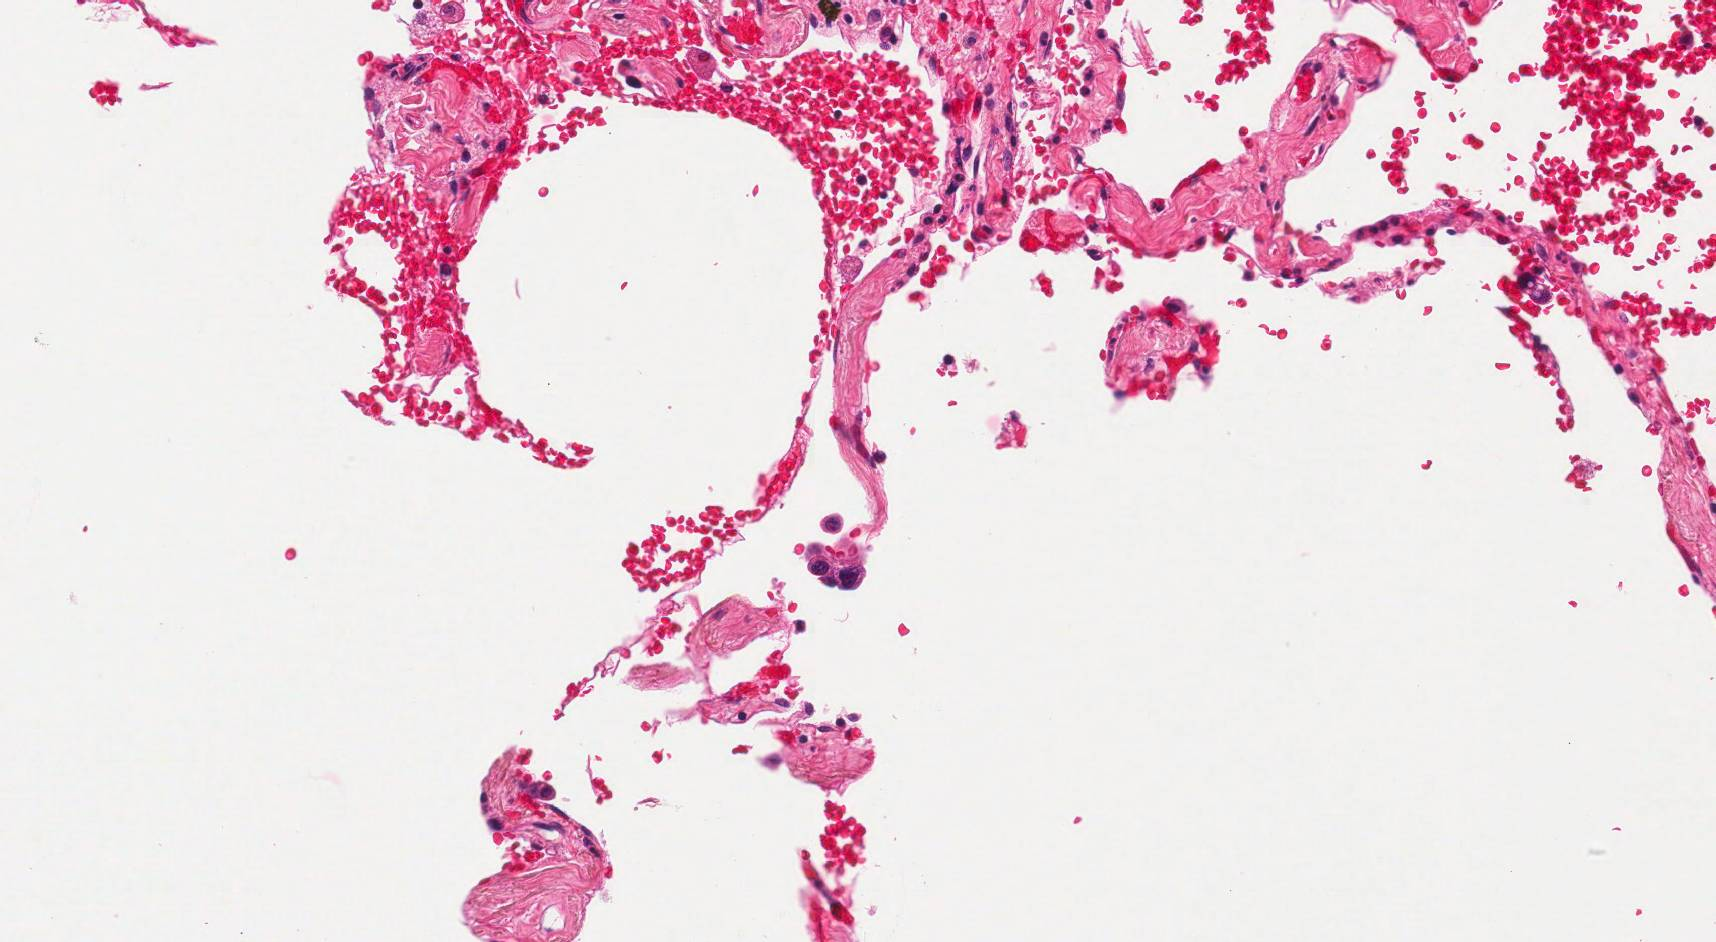stas: (801, 544, 865, 592)
